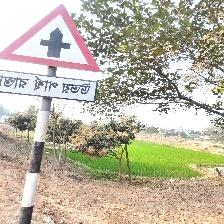Crossroad: (0, 2, 104, 105)
